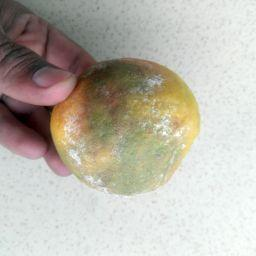orange: (48, 56, 202, 198)
